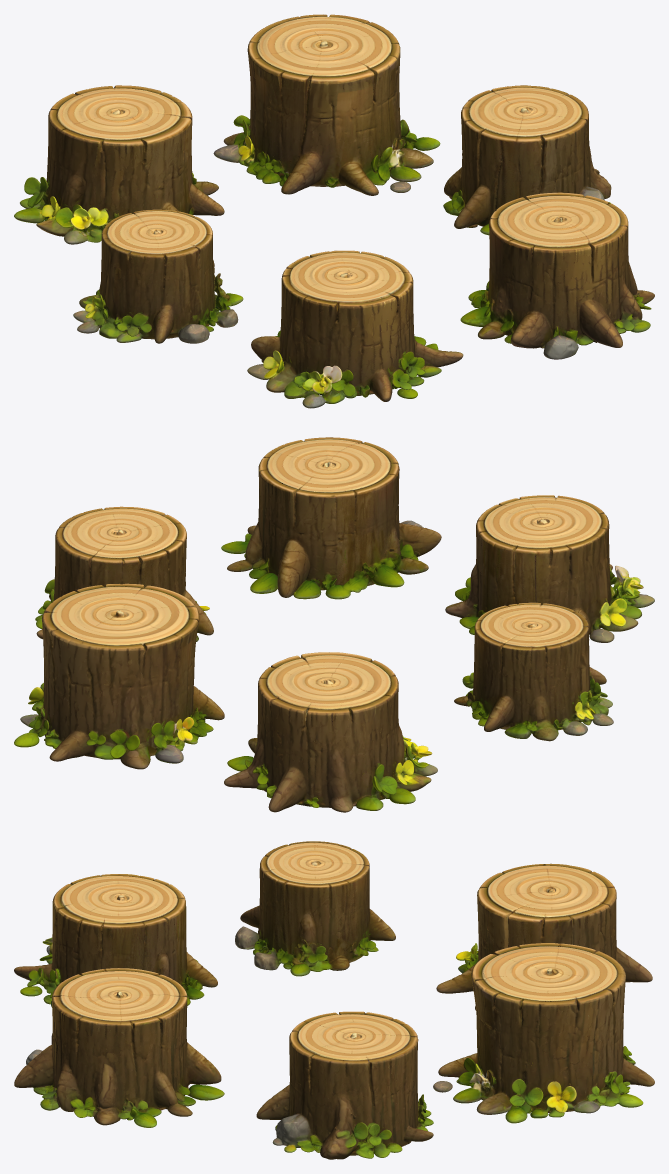
Rendered from Meshy_AI_Circle_of_Tree_Stumps_0701185740_texture.fbx.
The picture shows the model from 3 angles, top to bottom: view 1: azimuth 30°, elevation 25°; view 2: azimuth 150°, elevation 25°; view 3: azimuth 270°, elevation 25°; orthographic projection. The views are drawn at different scales.
Visible parts, largest first — view 1: Mesh_0; view 2: Mesh_0; view 3: Mesh_0.
Boxes of the visible parts, left/top/right/bottom form: Mesh_0: left=14, top=14, right=654, bottom=408; Mesh_0: left=14, top=437, right=654, bottom=812; Mesh_0: left=14, top=841, right=654, bottom=1159.
Bounding box in the file's own units: 181 × 36.7 × 190.
1 material, 1 textured.
